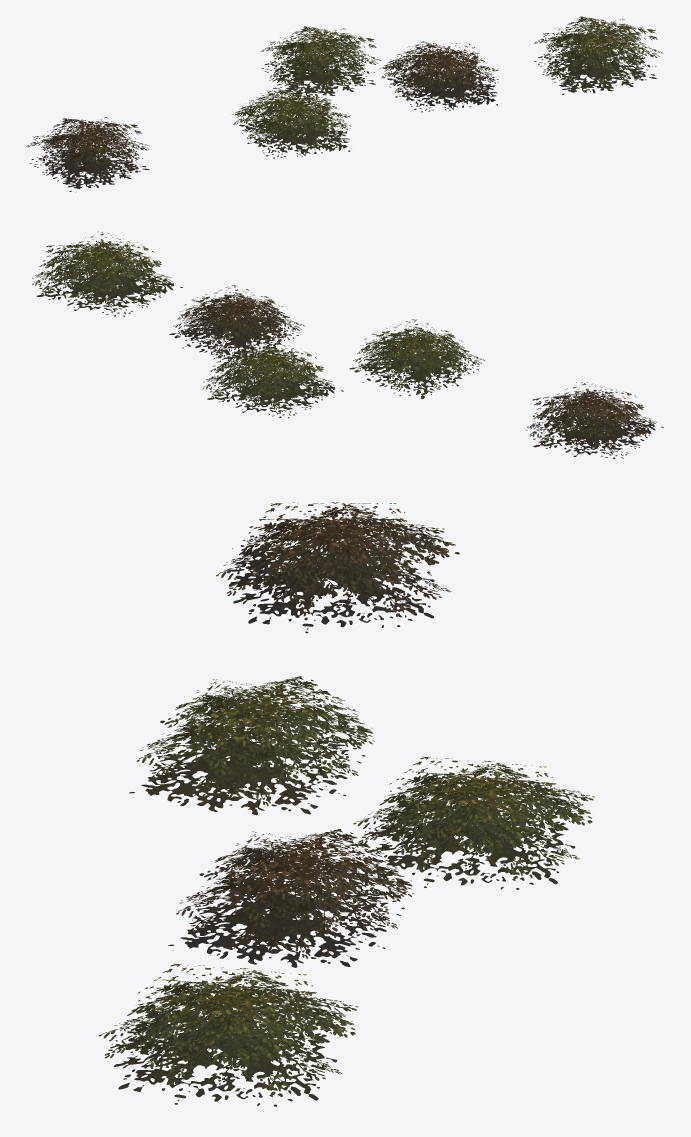
The model's file is plants_bushes03.fbx.
3 views of the same model, one above another, from view 1: azimuth 30°, elevation 25°; view 2: azimuth 150°, elevation 25°; view 3: azimuth 270°, elevation 25° (orthographic). The views are drawn at different scales.
Visible parts, largest first — view 1: obj1.043; view 2: obj1.043; view 3: obj1.043.
Boxes of the visible parts, x1=… form: obj1.043: x1=26, y1=16, x2=663, y2=192; obj1.043: x1=32, y1=231, x2=663, y2=458; obj1.043: x1=98, y1=502, x2=594, y2=1106.
Size of the model in its own units: 19.93 by 1.26 by 7.95.
